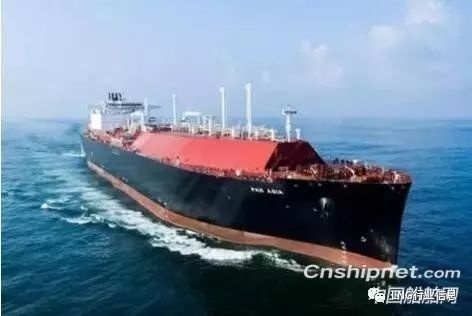Cargoship: (80, 83, 411, 275)
